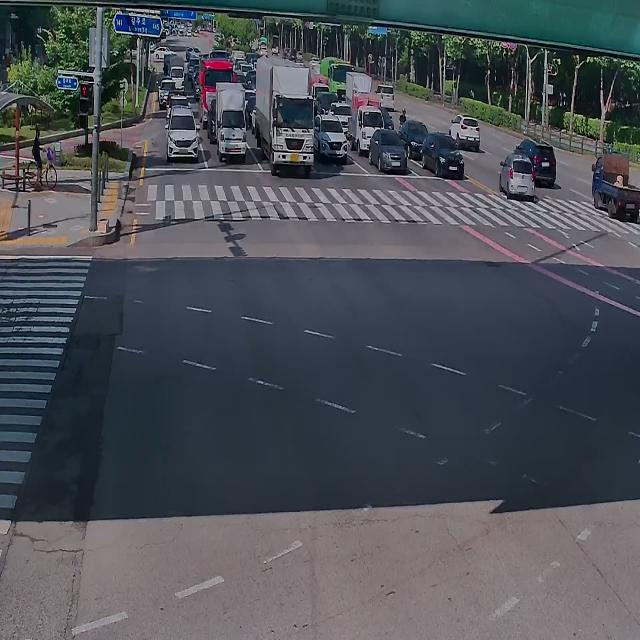Car: (514, 138, 556, 188), (421, 132, 465, 179), (369, 128, 407, 174), (499, 153, 535, 200), (398, 119, 429, 160), (450, 114, 480, 151), (329, 103, 352, 135), (206, 98, 221, 142), (375, 80, 395, 112), (378, 105, 399, 134), (315, 93, 337, 119), (167, 93, 192, 115), (158, 78, 174, 107), (182, 44, 200, 62), (155, 44, 175, 59)
Motorcycle: (398, 107, 407, 131)
Truck: (254, 56, 310, 179), (590, 142, 640, 225), (198, 58, 228, 116), (347, 104, 378, 155), (323, 53, 347, 102), (346, 65, 369, 102), (167, 55, 186, 90), (310, 73, 329, 98)
